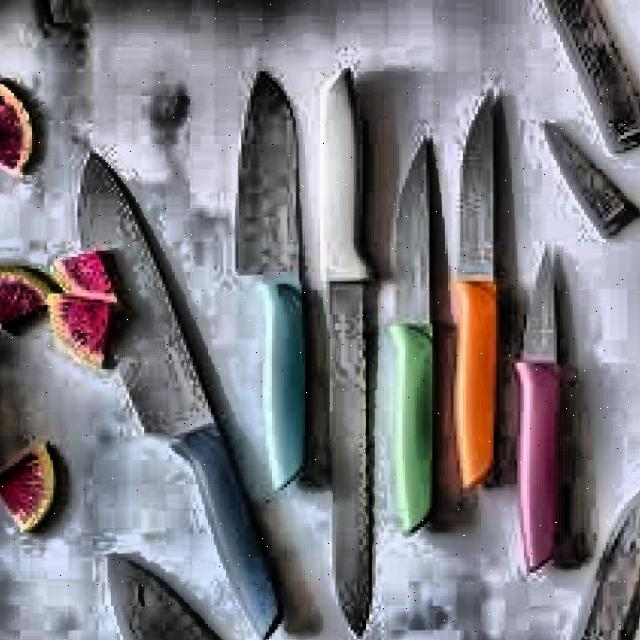knife: (72, 149, 296, 640), (236, 63, 314, 498), (320, 67, 377, 640), (451, 91, 509, 499), (394, 134, 449, 532), (517, 248, 570, 574)
